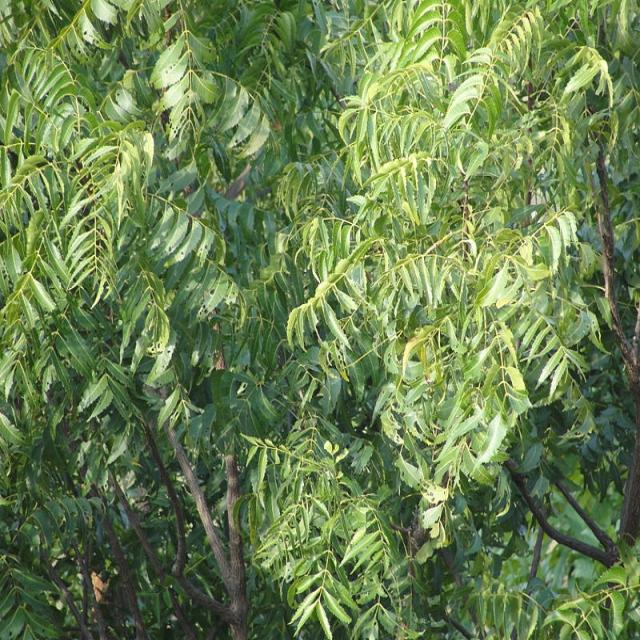Medicinal-Neem: (290, 38, 605, 527), (0, 0, 316, 425), (255, 431, 517, 640)
